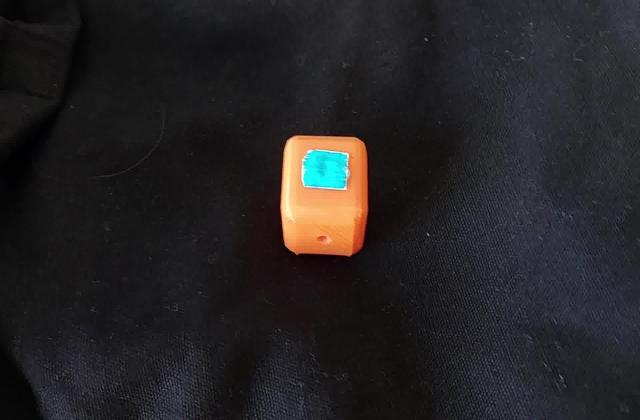blue: (311, 154, 344, 182)
sticker: (274, 129, 377, 263)
